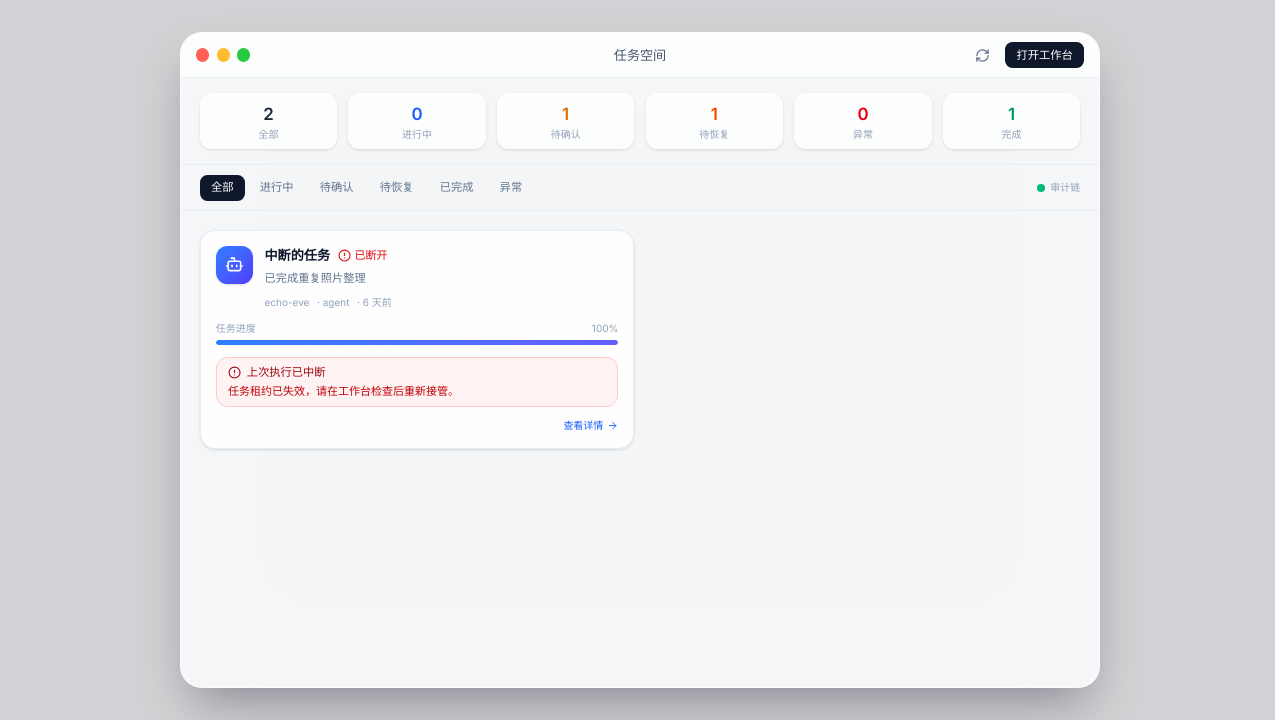
Echo task space › separates an expired Agent lease and confirms a bounded takeover
expect the text "已断开" is shown: met, box [338,247,388,264]
expect the text "上次执行已中断" is shown: met, box [228,365,326,379]
Click the button with aria-label "查看任务：中断的任务": (417, 340) [200,230,634,449]
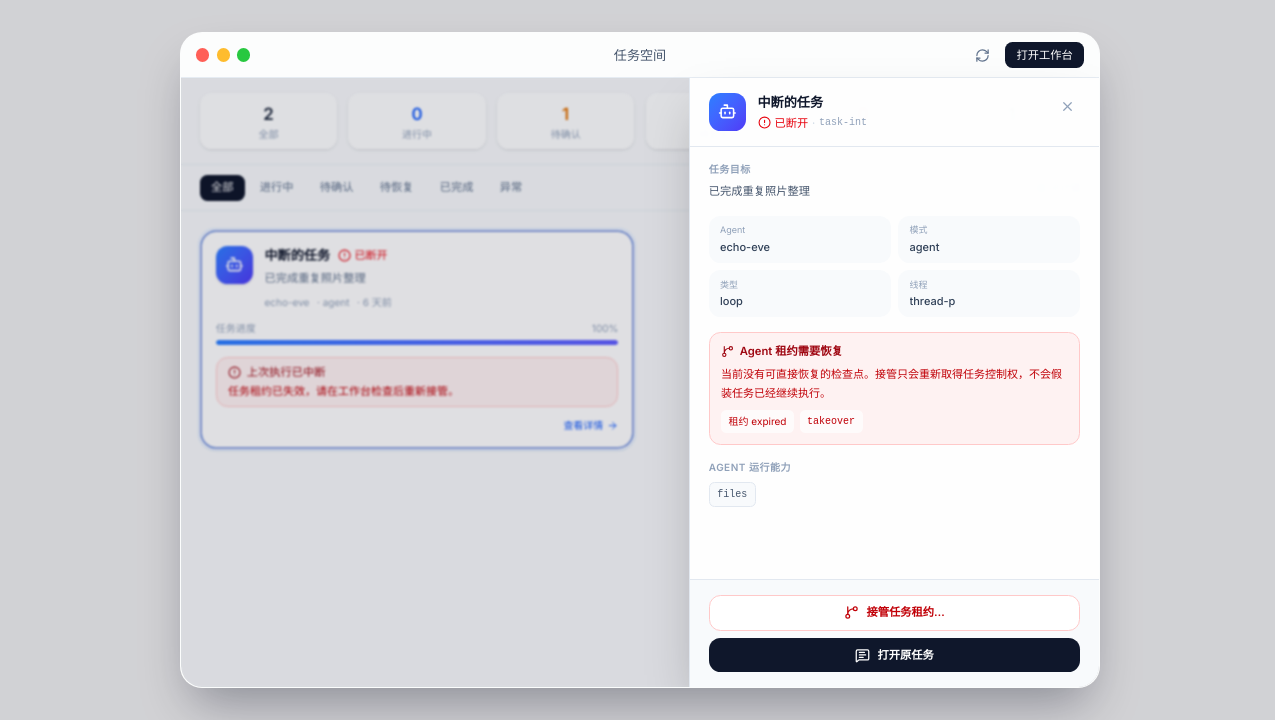
expect the element named "任务详情" is shown: met, box [689,78,1099,687]
expect the text "Agent 租约需要恢复" is shown: met, box [721,344,843,358]
Click the button "接管任务租约…": (895, 613) [709,595,1080,631]
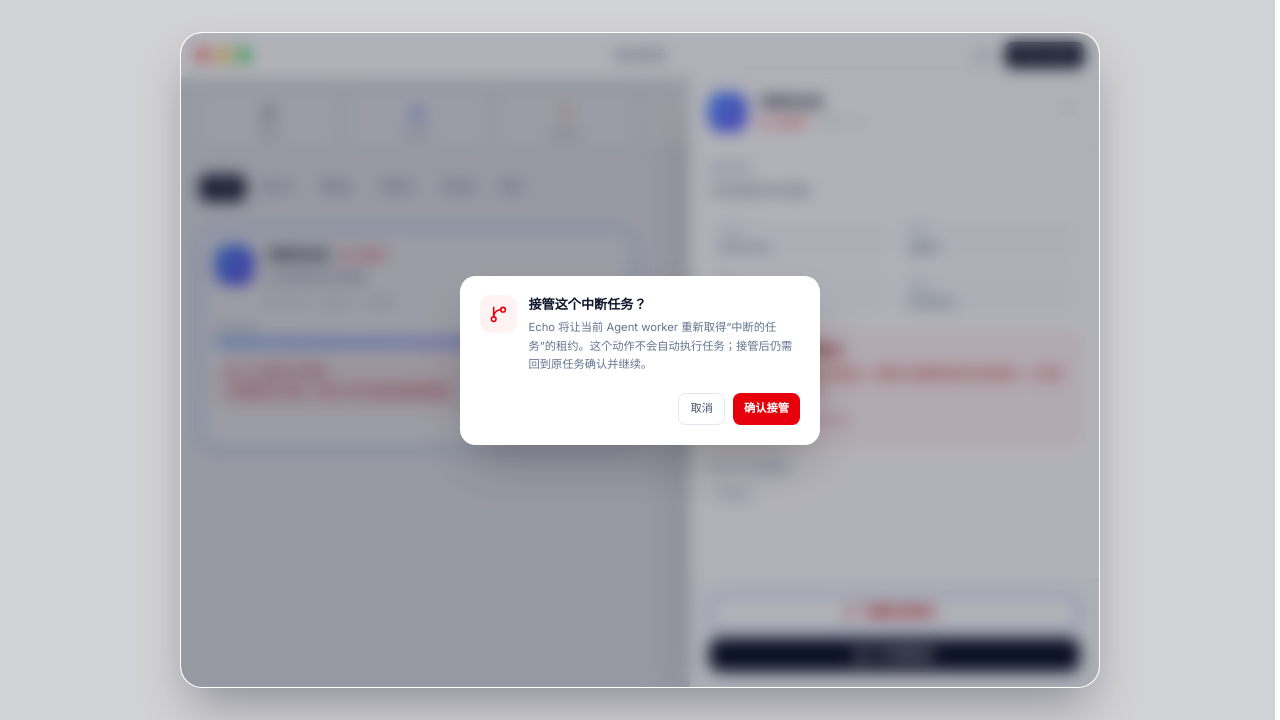
expect the dialog named "确认接管任务" is shown: met, box [460,276,820,444]
expect the text "这个动作不会自动执行任务" is shown: met, box [528,338,792,371]
Click the button "确认接管": (766, 409) [733,393,800,425]
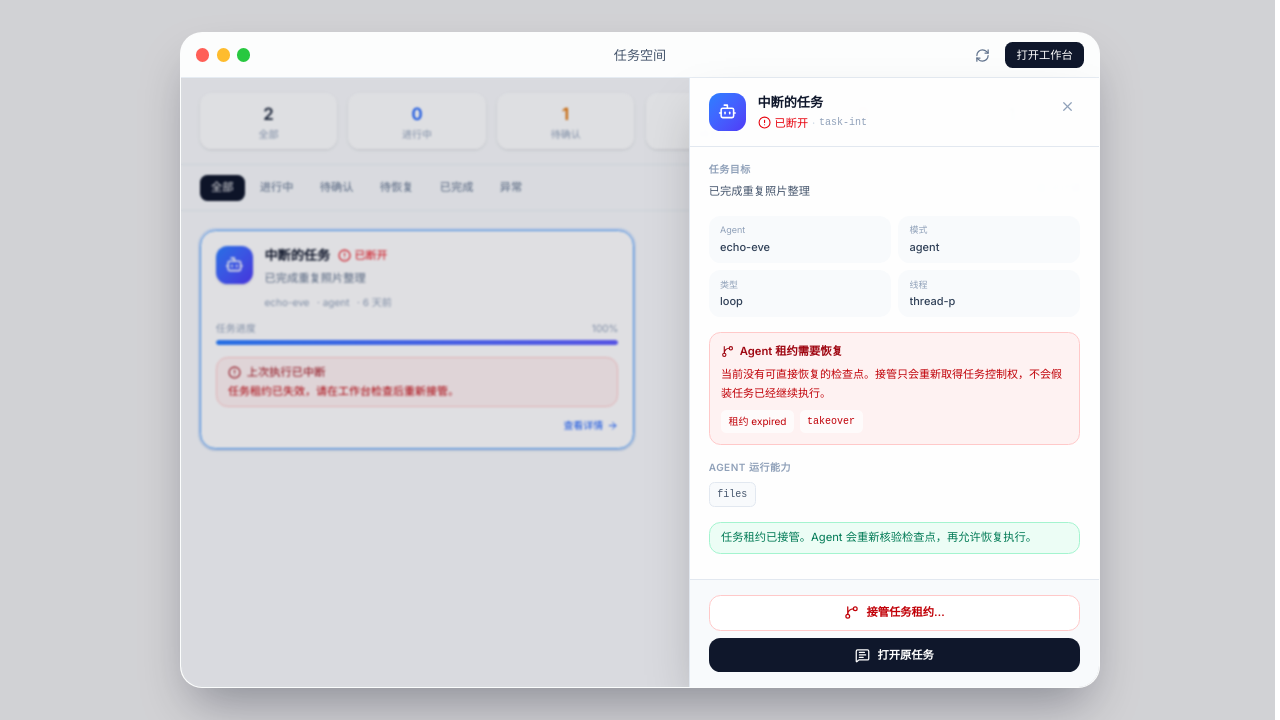
expect the text "任务租约已接管。Agent 会重新核验检查点，再允许恢复执行。" is shown: met, box [709,522,1080,554]
